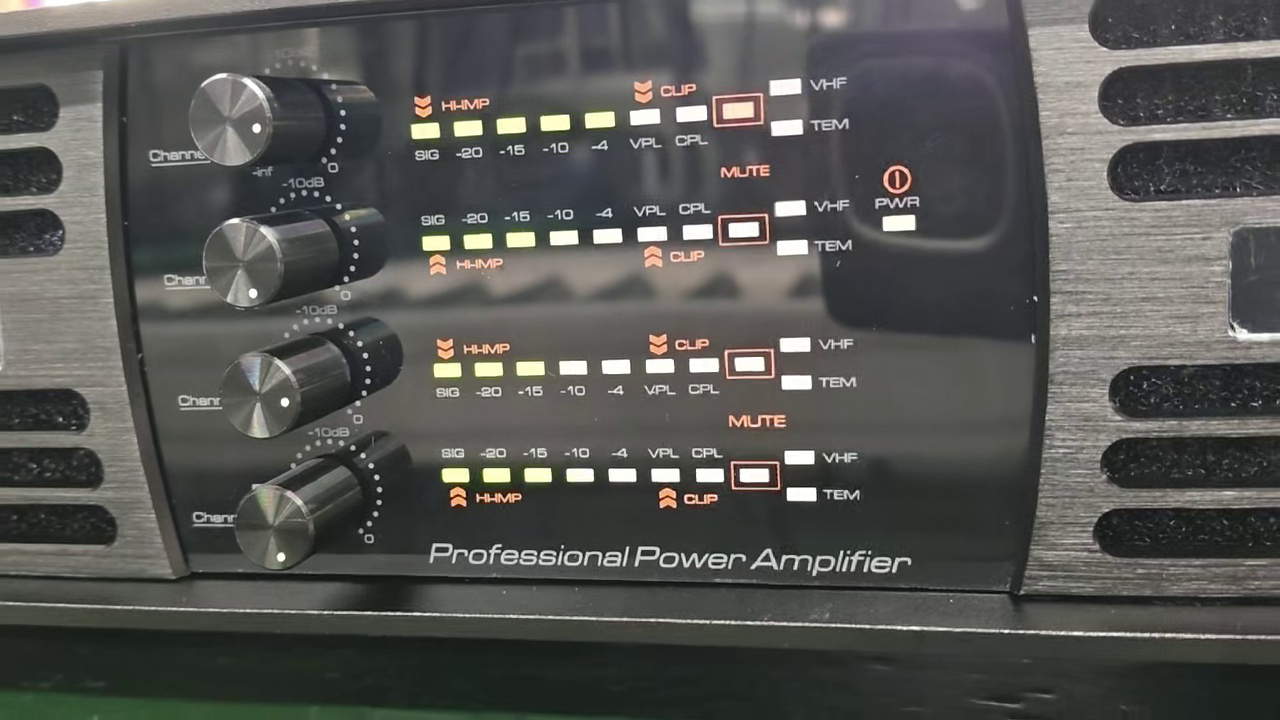FP_CPL: (669, 99, 712, 155), (674, 198, 716, 245), (686, 352, 721, 404), (689, 442, 726, 490)
FP_PWR: (870, 194, 924, 236)
FP_PWR_area: (868, 161, 930, 244)
FP_SIG_area: (407, 72, 865, 165), (409, 190, 856, 279), (430, 327, 861, 404), (437, 438, 868, 514)
FP_VPL: (624, 104, 665, 156), (630, 197, 672, 246), (642, 353, 679, 405), (645, 440, 682, 489)
